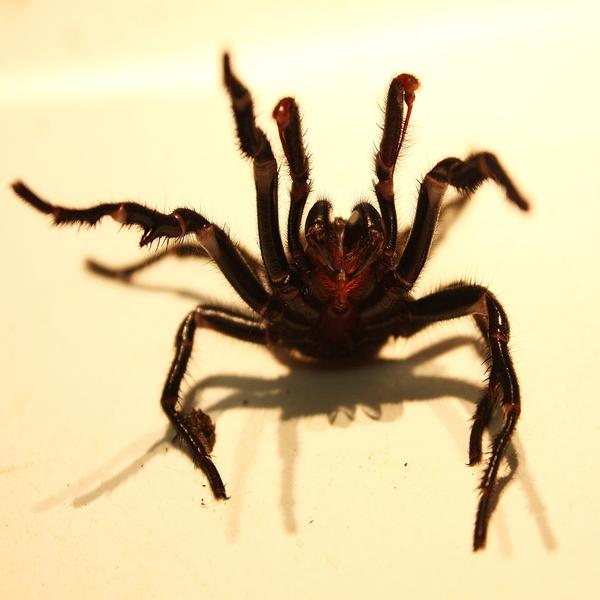Funnel Web Spider: (23, 60, 528, 528)
